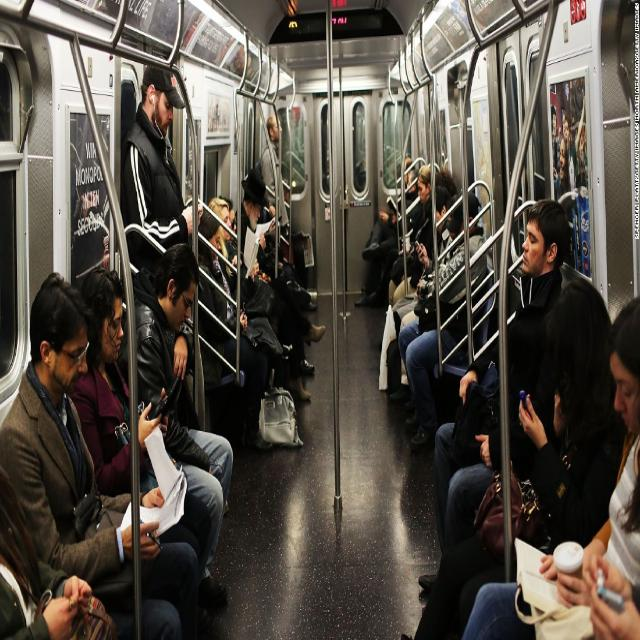body: (411, 273, 619, 640), (0, 271, 205, 640), (432, 290, 628, 639), (418, 198, 571, 592), (68, 265, 214, 587), (116, 239, 234, 588), (397, 190, 489, 455), (197, 206, 276, 458), (120, 60, 205, 272), (232, 192, 327, 370), (207, 197, 287, 406), (230, 167, 312, 368), (398, 185, 458, 398), (354, 153, 424, 311), (545, 74, 597, 284), (386, 162, 435, 309), (257, 112, 290, 266), (414, 187, 454, 276), (255, 196, 286, 279)
